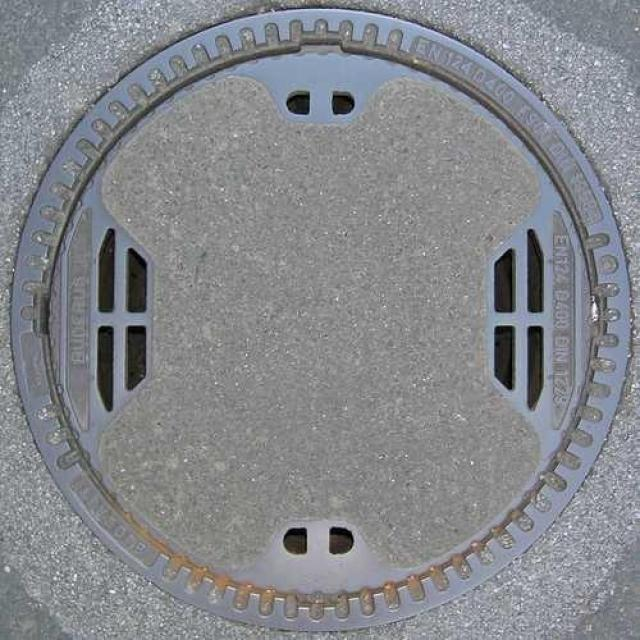manhole: (11, 9, 629, 630)
